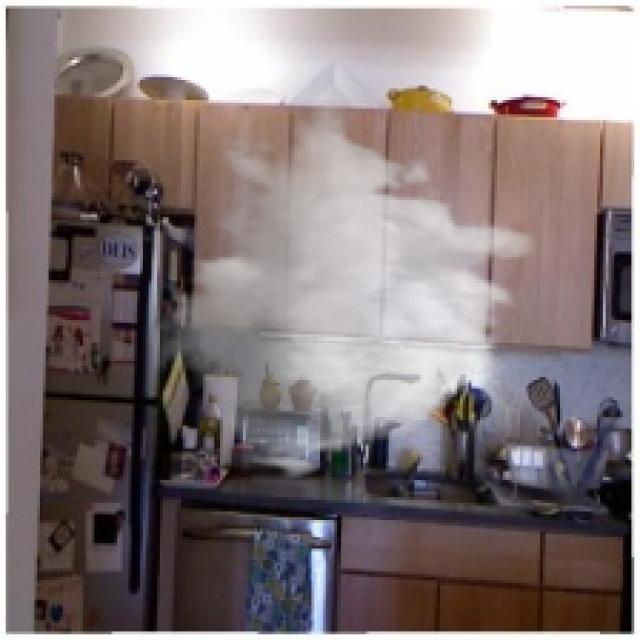smoke: (146, 100, 540, 483)
